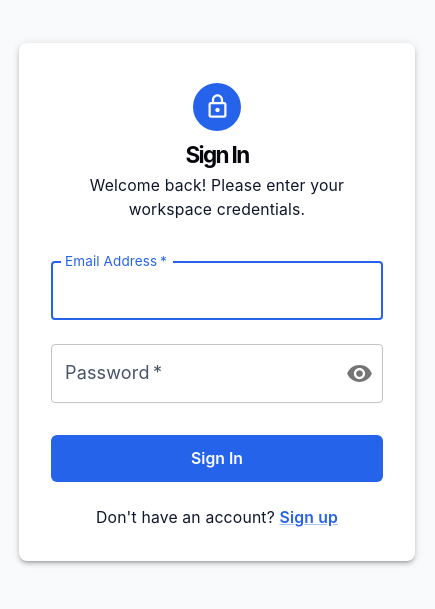
LoginPage Component › validates invalid email format
In the field labelled "Email Address *": (217, 291) [51,261,383,320], type "invalid-email-format"
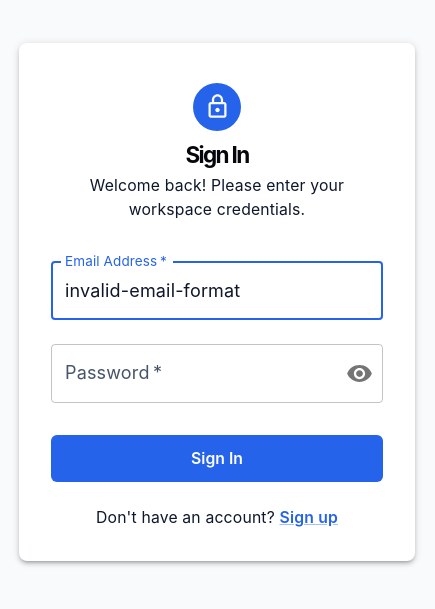
Click the button "Sign In": (217, 458) [51,435,383,482]
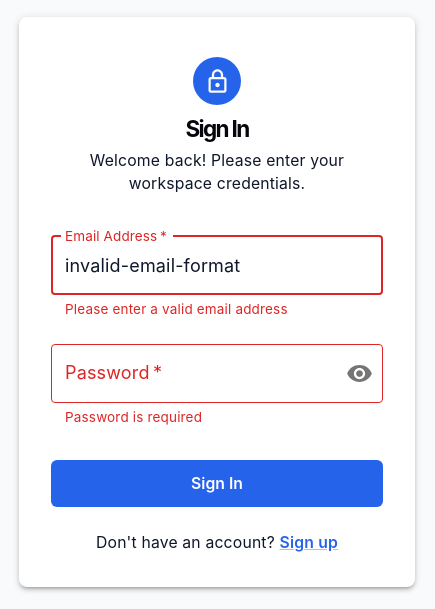
Now the text "Please enter a valid email address" is shown, box [65,301,288,317]
